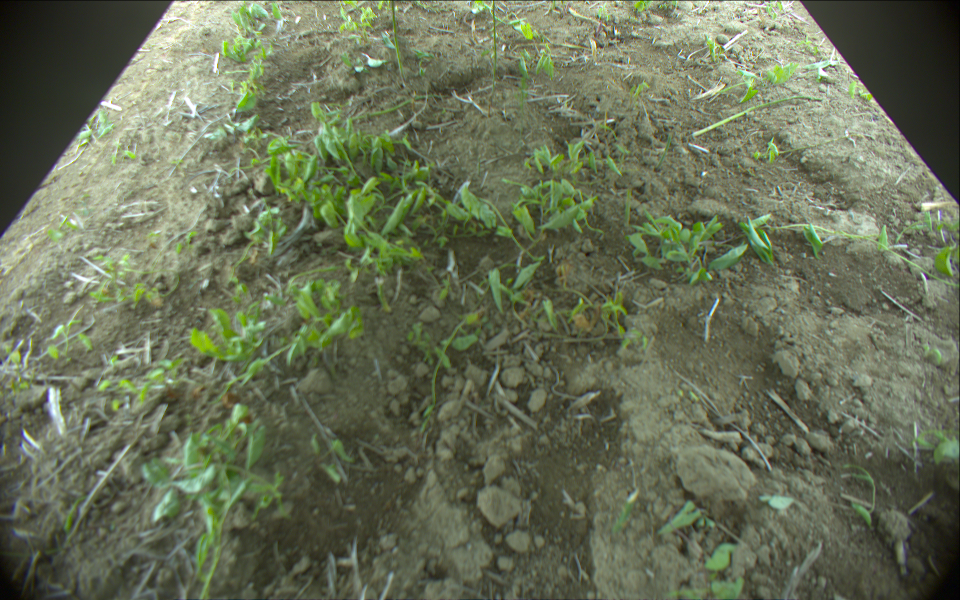aspa: (691, 94, 825, 139), (386, 1, 408, 82), (491, 1, 499, 67)
